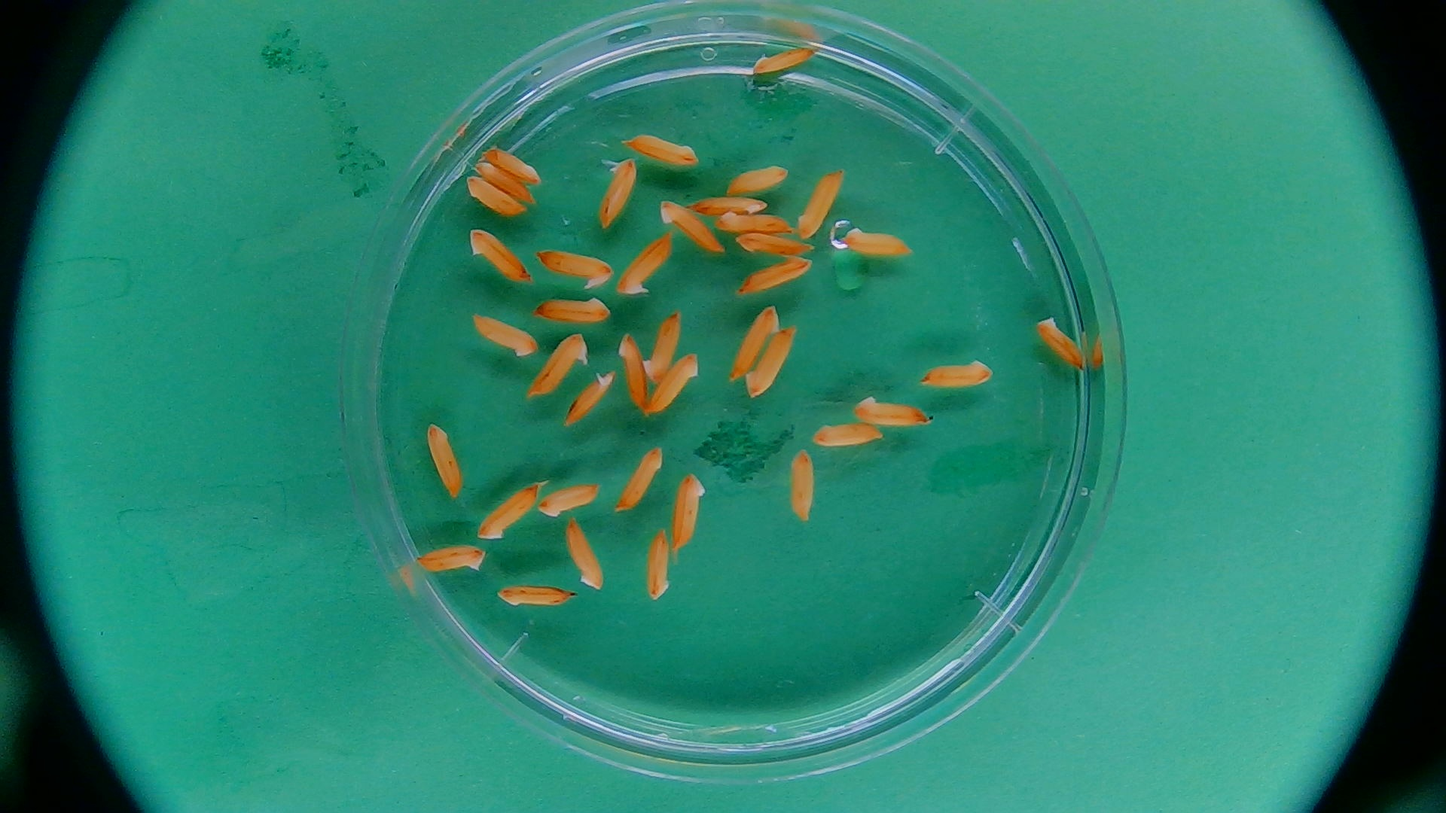no: (460, 217, 533, 291), (473, 473, 543, 544), (659, 190, 725, 260), (728, 300, 784, 382), (560, 519, 617, 598), (747, 315, 795, 404), (1036, 309, 1094, 381), (792, 173, 850, 242), (629, 125, 709, 172), (458, 172, 534, 220), (481, 139, 548, 193), (424, 420, 468, 502), (616, 440, 663, 516), (782, 446, 825, 529), (845, 393, 940, 430), (468, 158, 540, 206), (474, 313, 539, 366), (614, 329, 654, 415), (651, 352, 701, 419), (737, 257, 814, 300), (669, 467, 706, 556), (494, 578, 575, 618), (641, 312, 685, 385), (810, 417, 890, 455), (529, 487, 611, 520), (734, 258, 816, 291), (409, 545, 492, 577), (737, 229, 819, 261), (599, 149, 630, 230), (641, 531, 675, 603), (920, 359, 996, 391), (690, 193, 774, 221), (728, 163, 795, 196), (749, 42, 822, 72), (712, 213, 798, 237)
yes: (526, 330, 587, 400), (567, 367, 619, 432), (619, 236, 672, 298), (538, 249, 614, 285), (834, 227, 913, 260)
